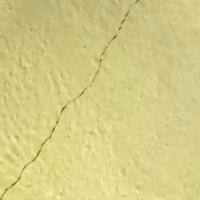crack: (3, 0, 142, 199)
